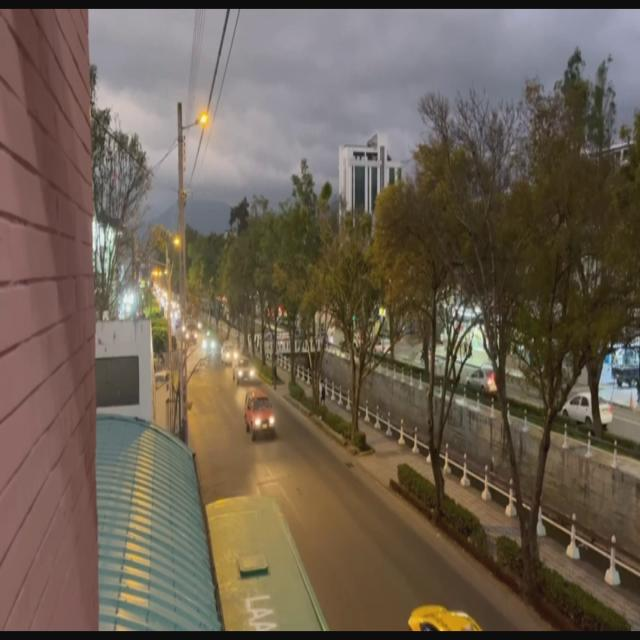CMT: (234, 357, 253, 383)
SUV: (247, 392, 274, 439)
